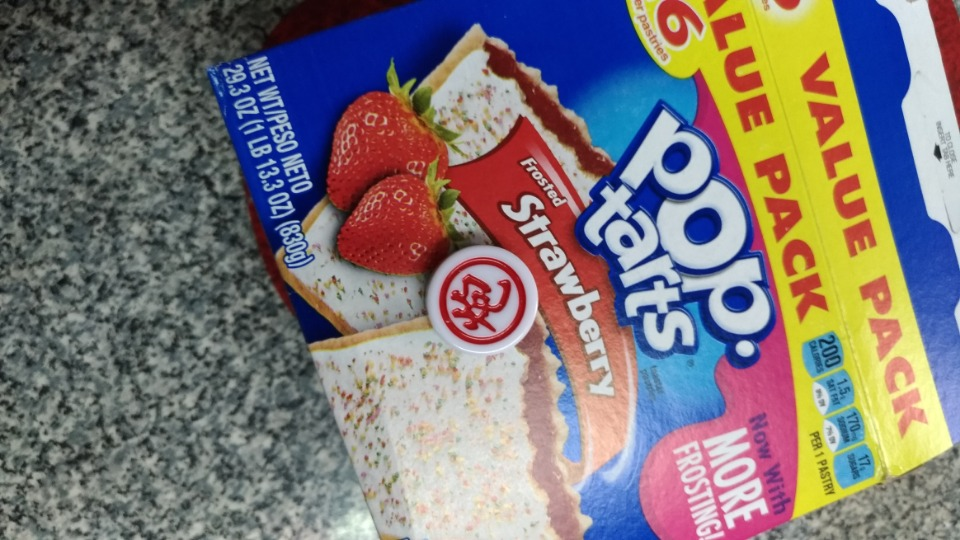r-cannon: (405, 233, 562, 372)
